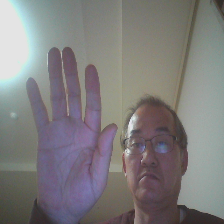hand: (20, 45, 125, 217)
